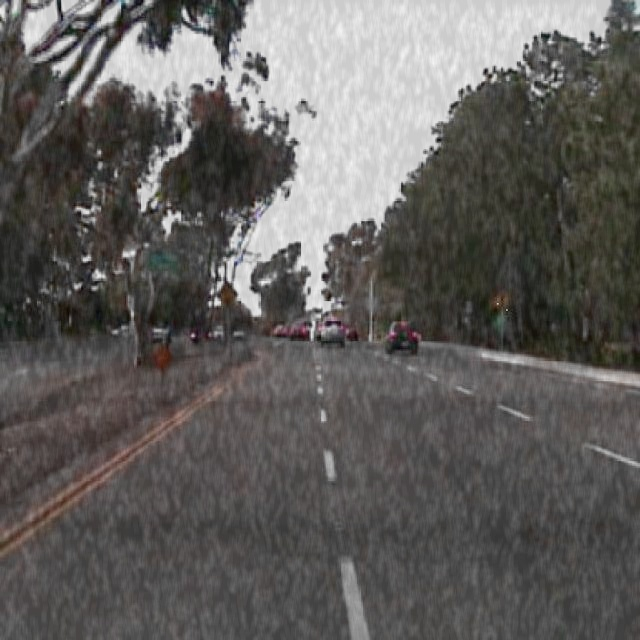signalAhead: (492, 289, 511, 317)
